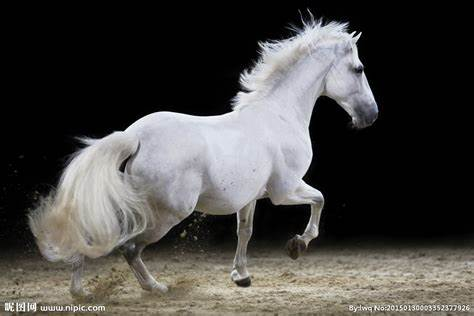horse: (23, 8, 380, 304)
